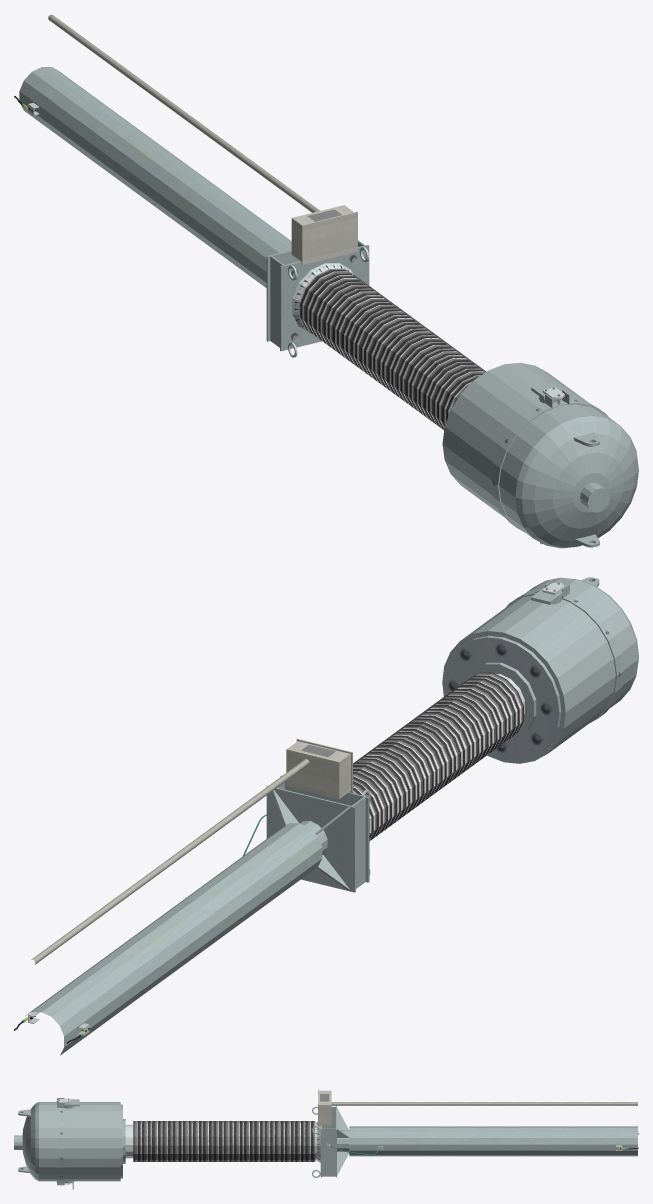
The model's file is ct-11m30000002467985-geode.glb.
3 views of the same model, one above another, from view 1: azimuth 30°, elevation 25°; view 2: azimuth 150°, elevation 25°; view 3: azimuth 270°, elevation 25° (orthographic). The views are drawn at different scales.
Parts seen in each view (by area): view 1: Node; view 2: Node; view 3: Node.
Boxes of the visible parts, bbox=[...] form: Node: bbox=[14, 14, 638, 548]; Node: bbox=[14, 577, 638, 1055]; Node: bbox=[14, 1089, 638, 1189].
Size of the model in its own units: 1.09 by 1.35 by 8.36.
14 materials, 14 textured.
